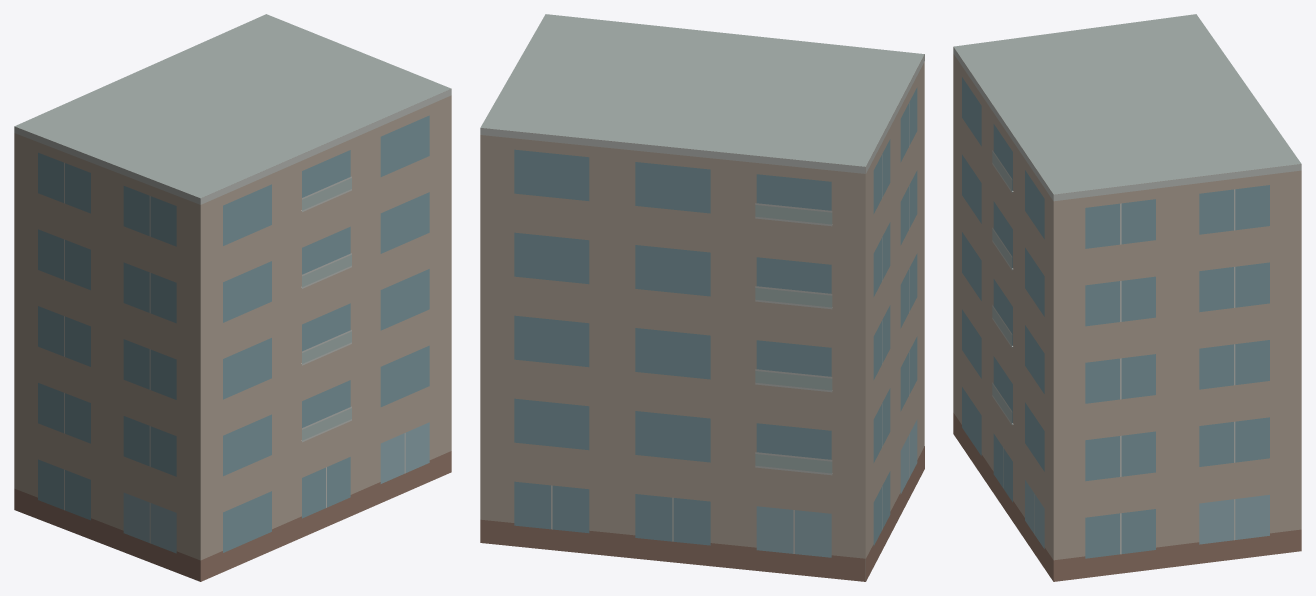
File: survey-upis-33020298.glb
The picture shows the model from 3 angles, left to right: view 1: azimuth 30°, elevation 25°; view 2: azimuth 150°, elevation 25°; view 3: azimuth 270°, elevation 25°; orthographic projection. The views are drawn at different scales.
Parts seen in each view (by area): view 1: survey-upis-33020298.tmp; view 2: survey-upis-33020298.tmp; view 3: survey-upis-33020298.tmp.
Part boxes in pixels (x1,y1,x2,y2): survey-upis-33020298.tmp: (14,14,451,581); survey-upis-33020298.tmp: (480,14,924,581); survey-upis-33020298.tmp: (953,14,1301,581).
Bounding box in the file's own units: 14.22 × 14.2 × 11.58.
